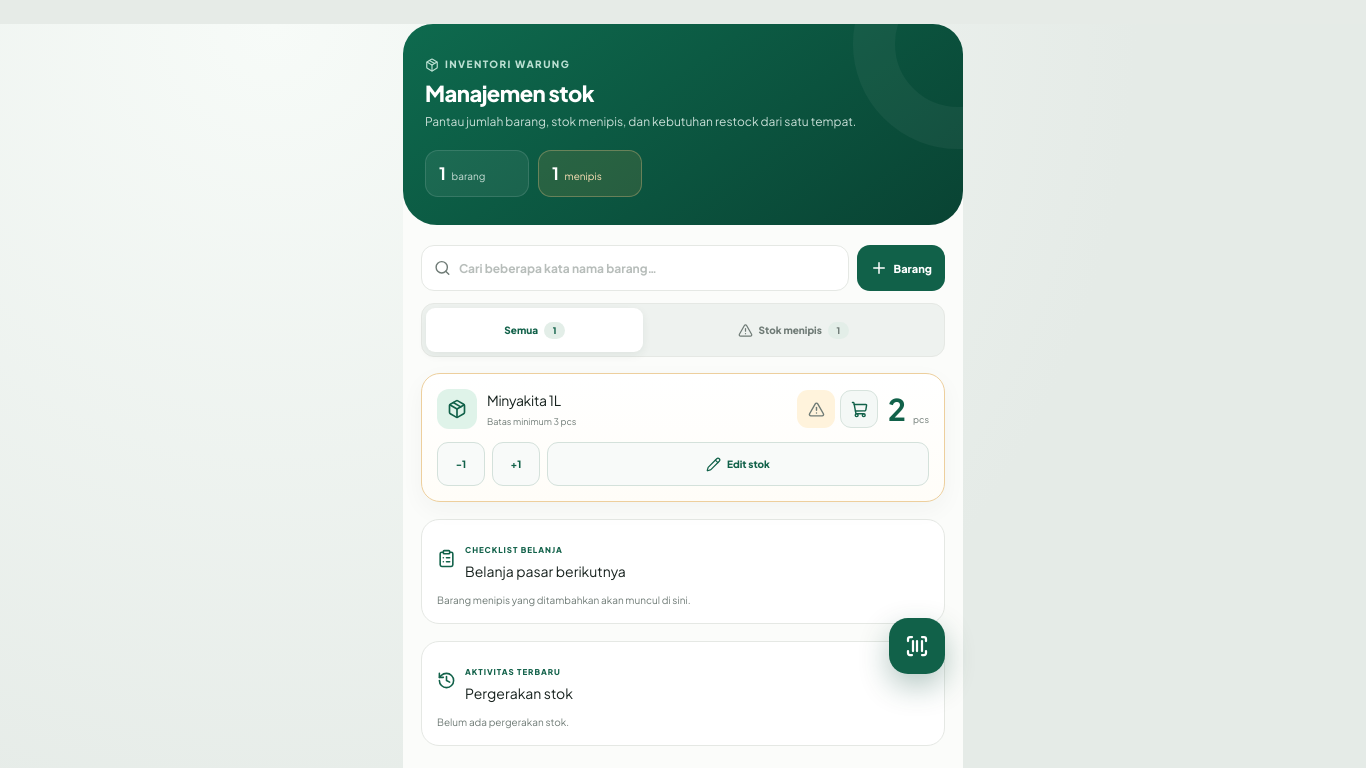
Test: InventoryDashboard › keeps low-stock and shopping actions as compact icons beside the stock total
Click the button named "Tambah Minyakita 1L ke checklist belanja".
click(859, 410)  # box [840,390,878,428]
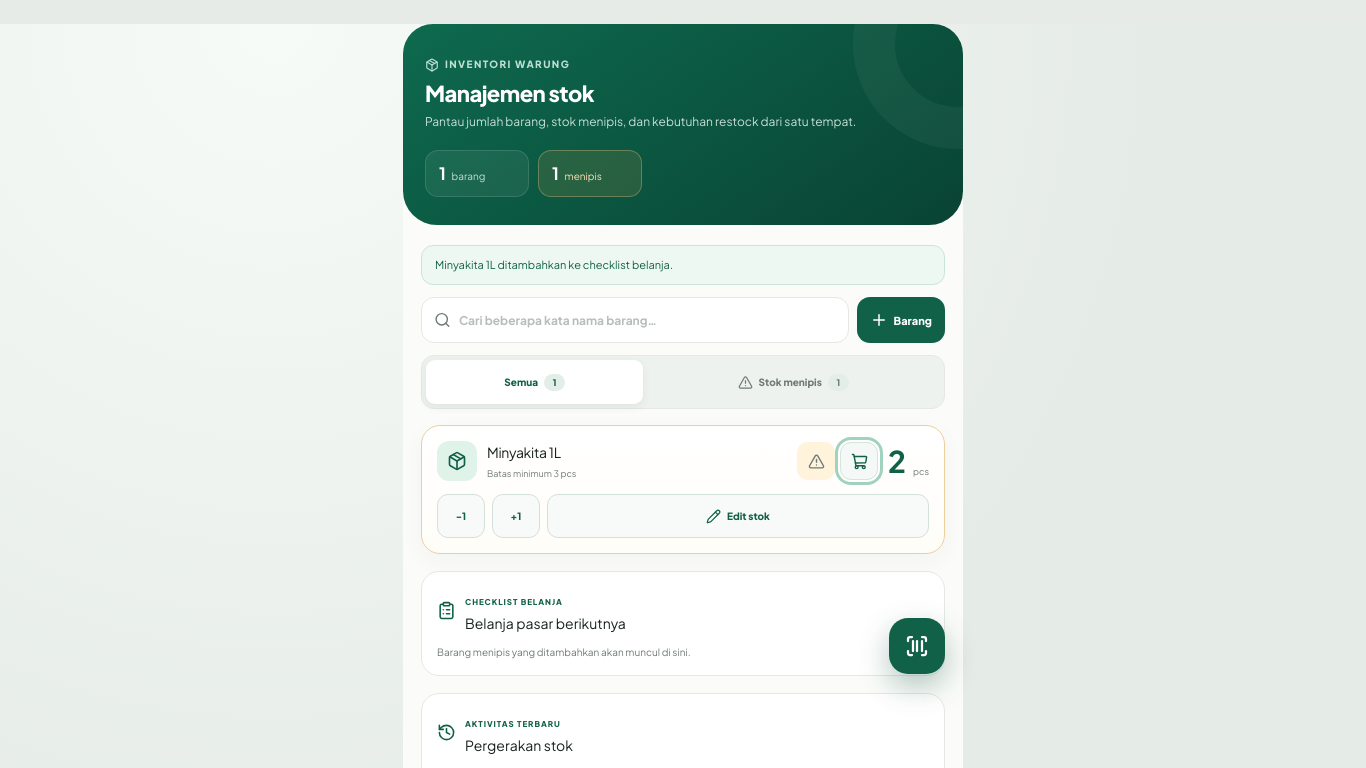
Check: the message shows "ditambahkan", box [435,258,673,272]
